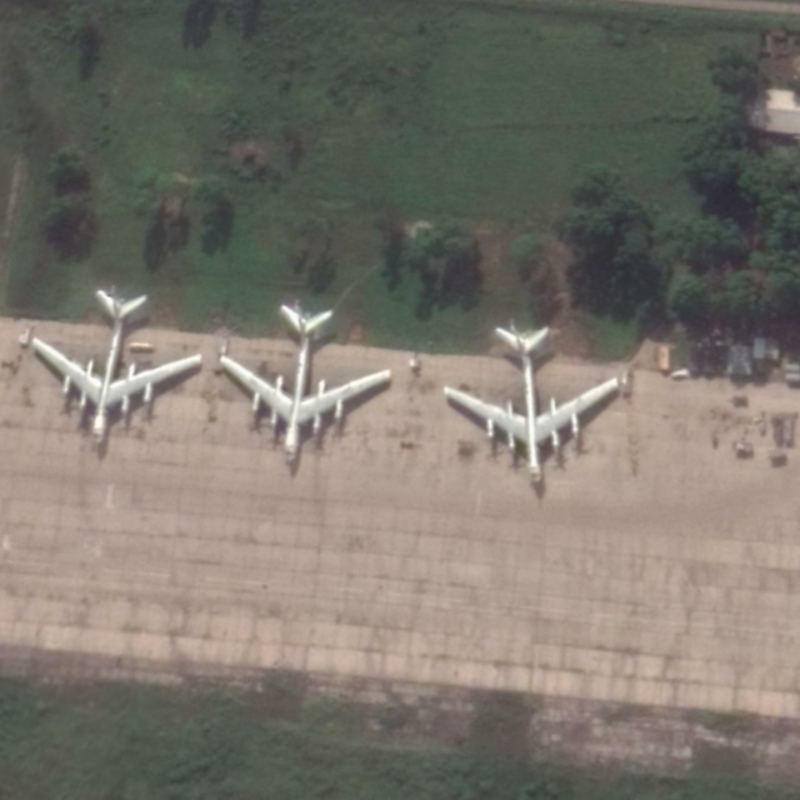A17: (440, 316, 622, 488), (216, 301, 393, 467), (29, 287, 204, 447)
